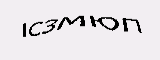І: (17, 19, 29, 40)
З: (42, 16, 57, 35)
М: (58, 11, 88, 32)
П: (121, 13, 143, 37)
С: (28, 18, 44, 39)
Ю: (86, 10, 121, 34)
